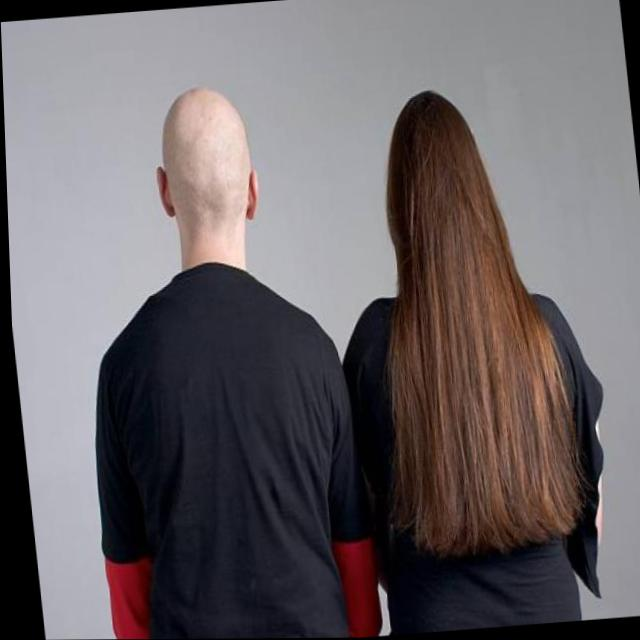no helmet: (373, 84, 504, 297), (141, 77, 261, 273)
